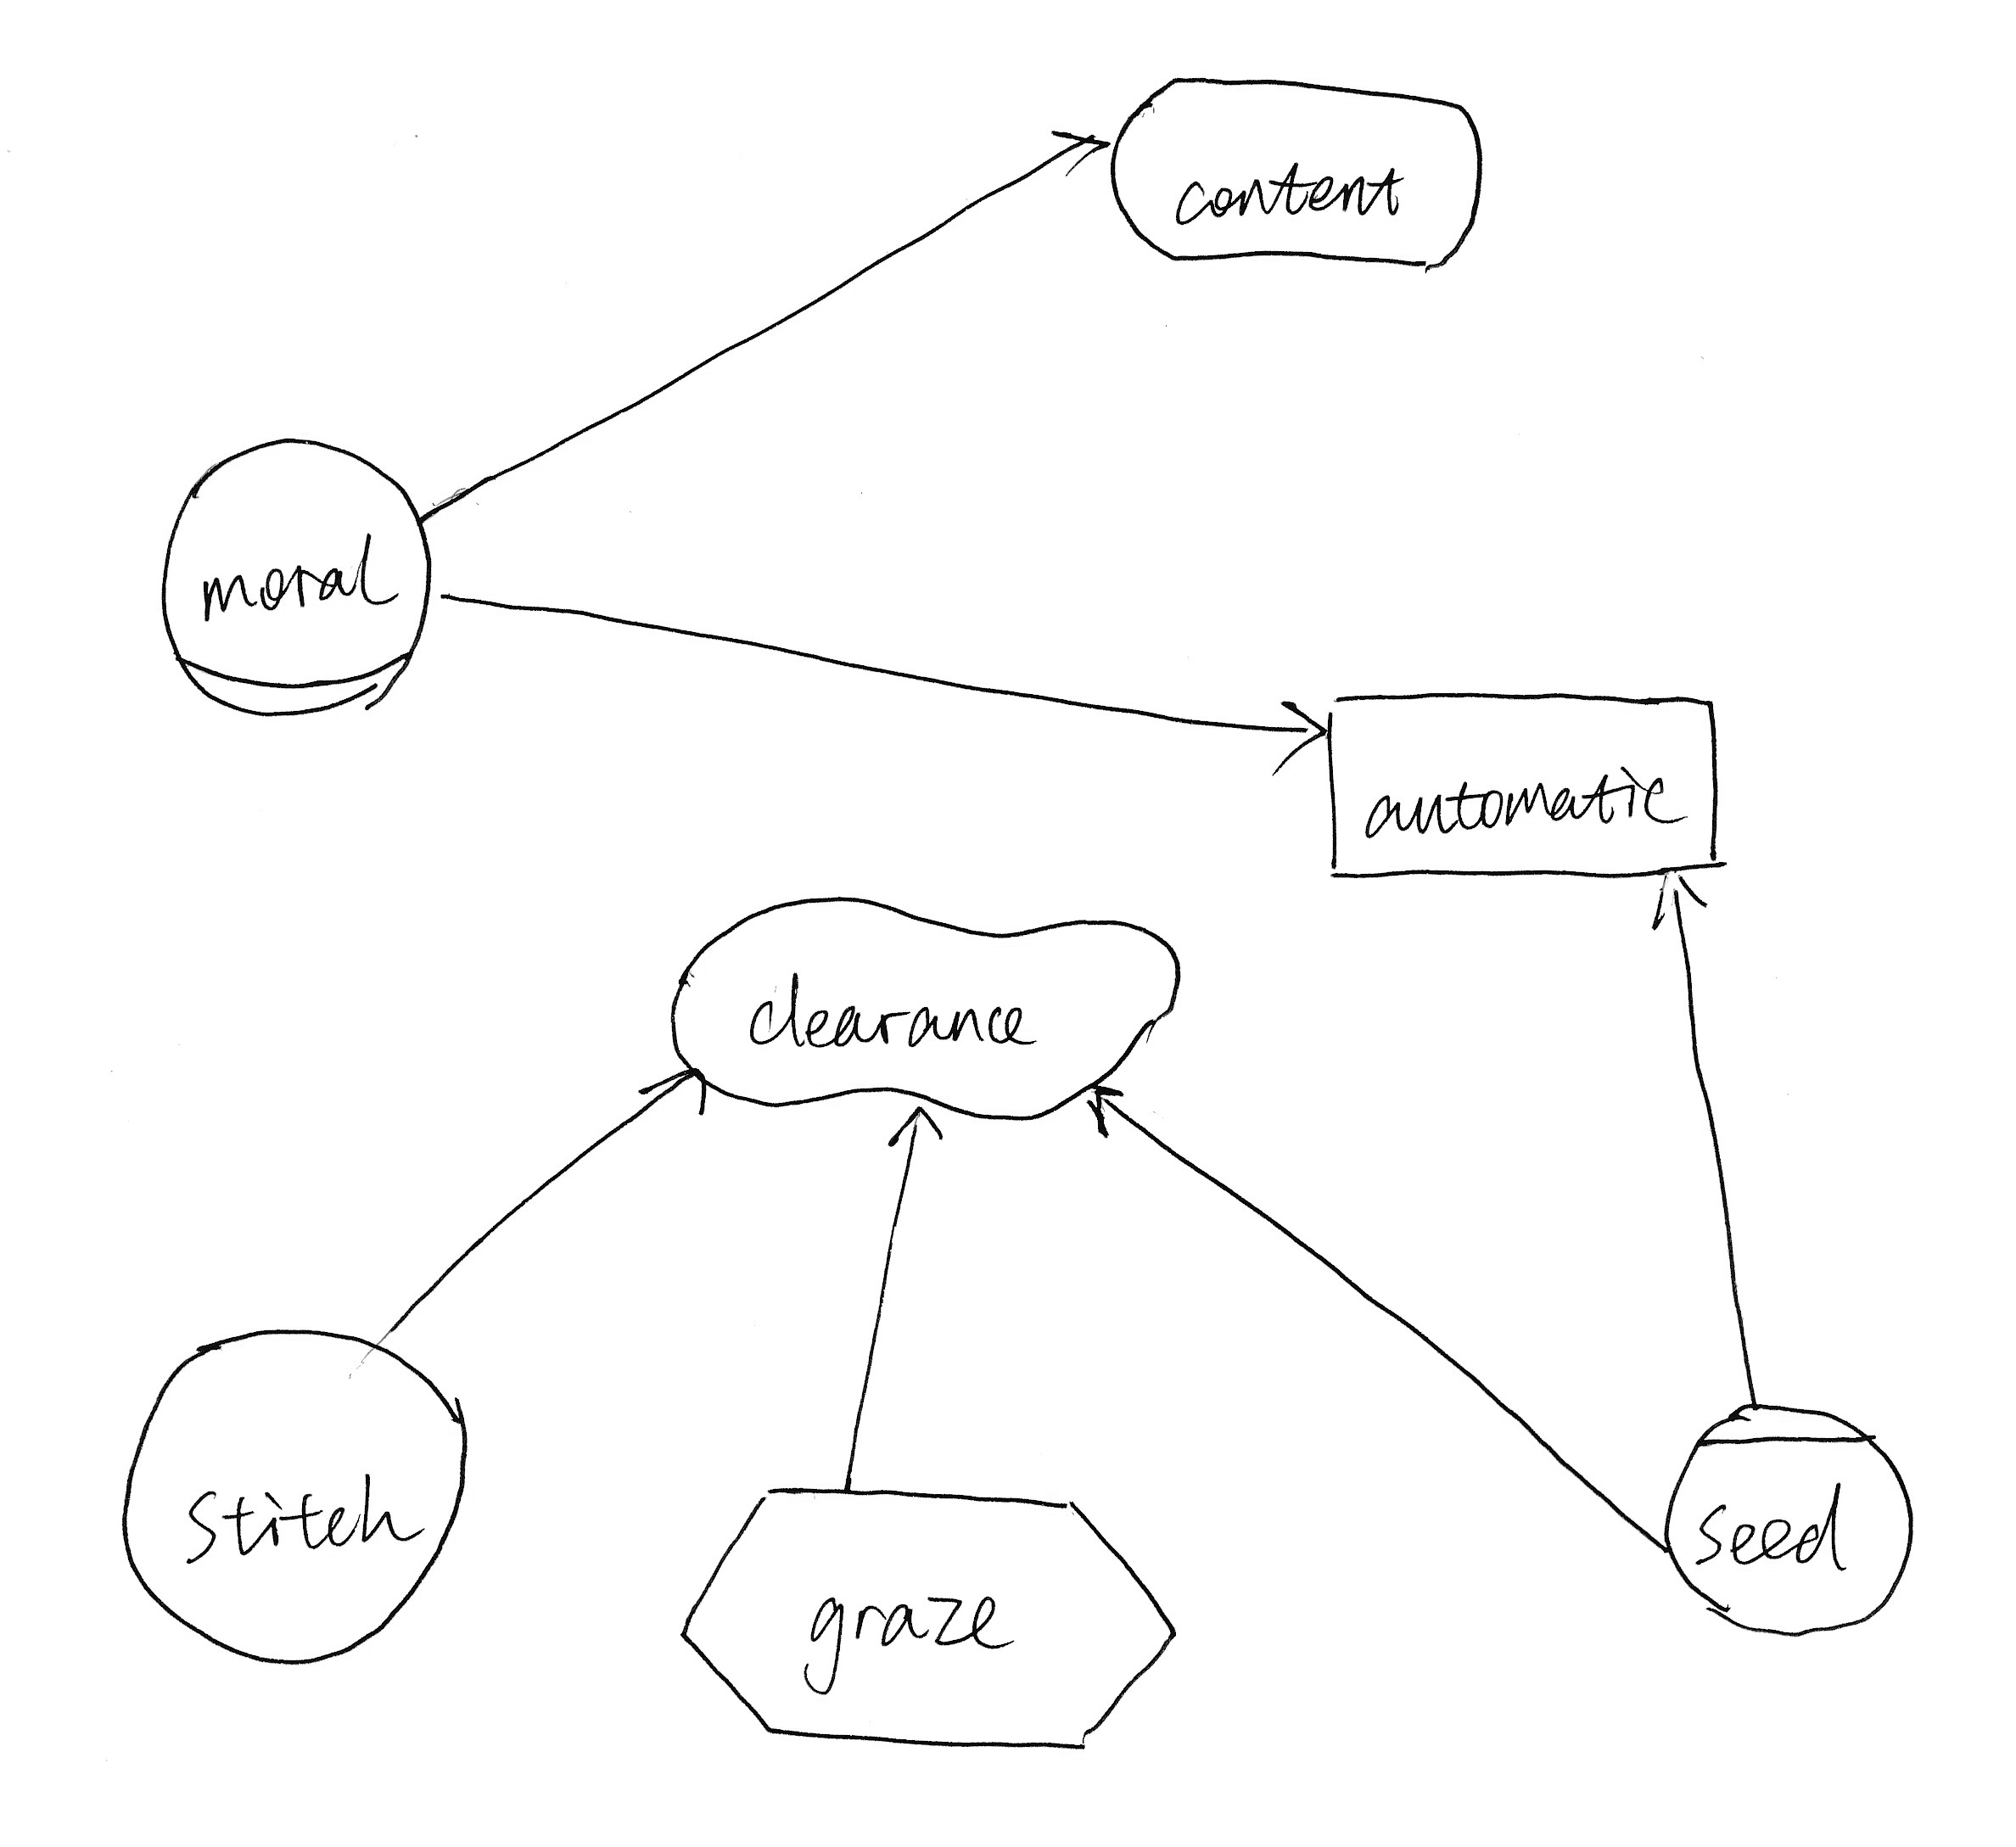actor: (98, 1312, 481, 1687)
agent: (1649, 1383, 1926, 1645)
arrow: (1256, 681, 1335, 783), (1638, 864, 1723, 953), (620, 1066, 716, 1139), (1034, 112, 1120, 195), (875, 1099, 957, 1169), (1082, 1078, 1141, 1152)
goal: (1101, 47, 1496, 279)
quality: (659, 881, 1192, 1136)
resource: (1312, 671, 1742, 892)
role: (148, 418, 444, 727)
task: (671, 1470, 1189, 1770)
